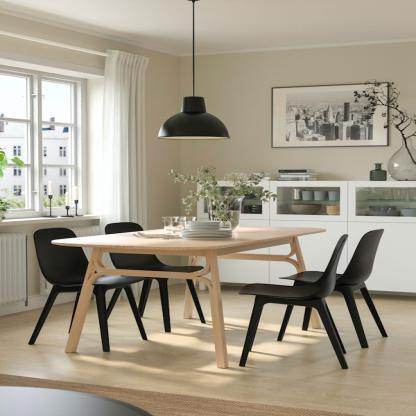chair: (233, 227, 349, 376), (29, 223, 138, 357), (278, 223, 389, 347), (108, 215, 207, 334)
light: (160, 3, 228, 146)
table: (67, 227, 333, 368)
